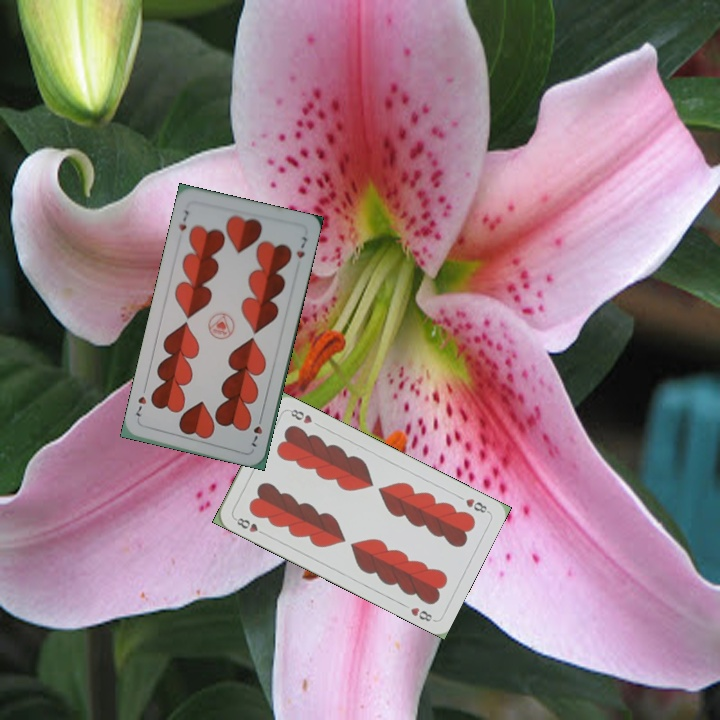H7: (245, 411, 265, 450), (174, 206, 191, 233)
H8: (231, 513, 268, 538), (462, 494, 491, 516)
